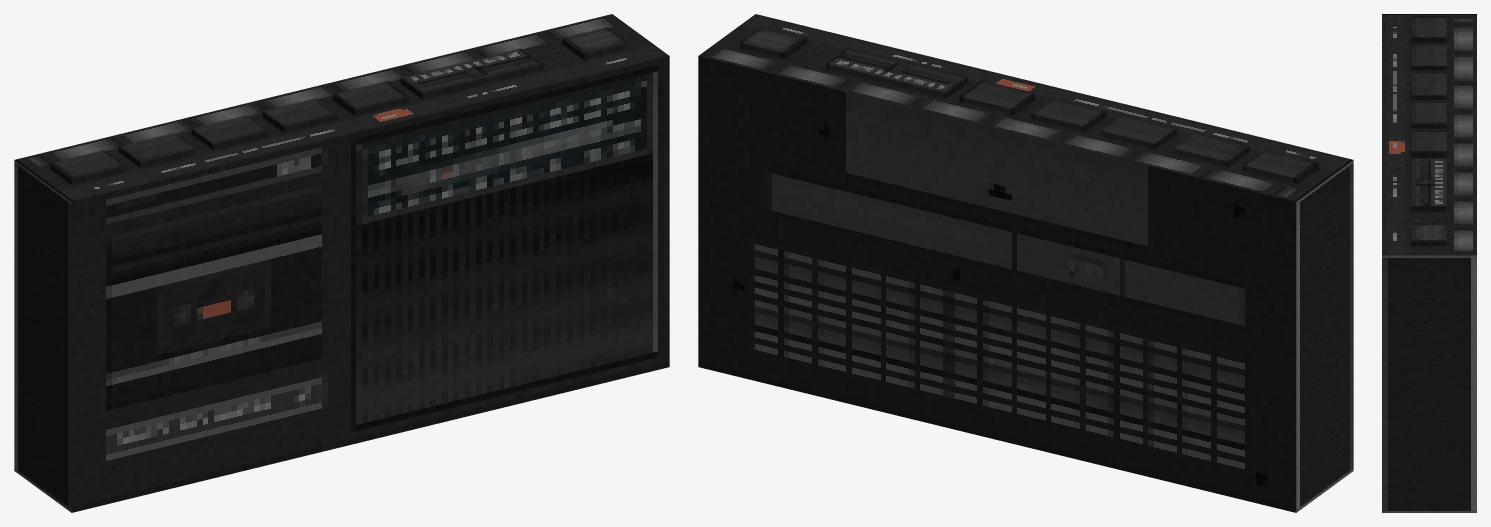
File: fm_radio.glb
3 views of the same model, side by side, from view 1: azimuth 30°, elevation 25°; view 2: azimuth 150°, elevation 25°; view 3: azimuth 270°, elevation 25° (orthographic). The views are drawn at different scales.
Parts seen in each view (by area): view 1: FM Radio; view 2: FM Radio; view 3: FM Radio.
Part boxes in pixels (bbox=[...]): FM Radio: bbox=[14, 14, 669, 512]; FM Radio: bbox=[698, 14, 1353, 512]; FM Radio: bbox=[1382, 14, 1476, 512].
Size of the model in its own units: 0.3204 by 0.1622 by 0.0532.
Materials: 1 (1 with a texture image).
